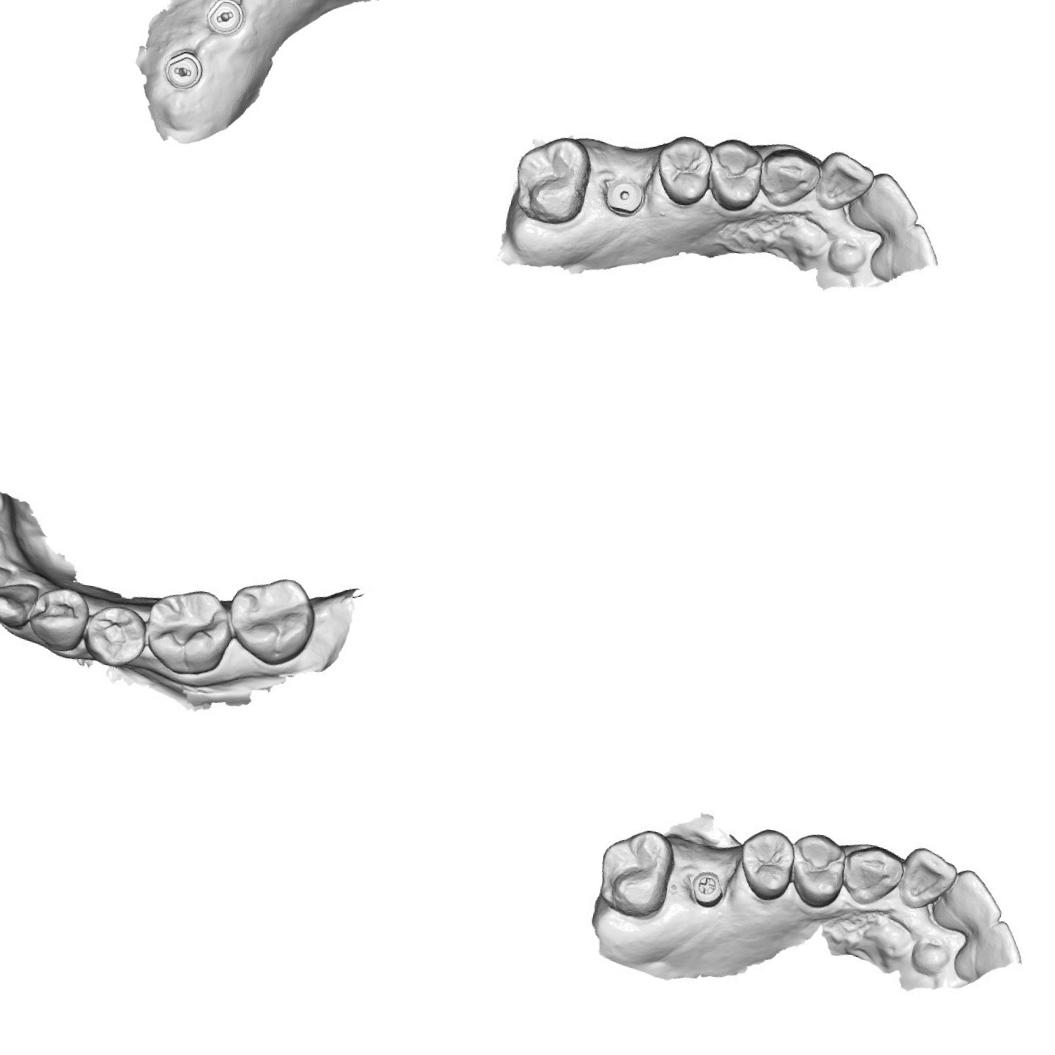canine: (838, 837, 908, 912), (754, 141, 824, 214), (0, 575, 44, 634)
implant: (599, 173, 647, 222)
implant_minus: (161, 47, 207, 94), (203, 0, 248, 40)
implant_plus: (685, 867, 728, 909)
incisor: (948, 912, 1030, 994), (843, 166, 927, 243), (865, 214, 943, 290), (930, 864, 1008, 938), (893, 842, 960, 918), (812, 147, 880, 215), (0, 551, 18, 616)
molar: (140, 583, 236, 680), (508, 128, 596, 230), (591, 821, 679, 922), (223, 568, 318, 661)
premolar: (782, 827, 850, 912), (698, 136, 768, 218), (732, 824, 800, 906), (649, 131, 715, 210), (80, 600, 151, 670), (31, 582, 95, 654)
